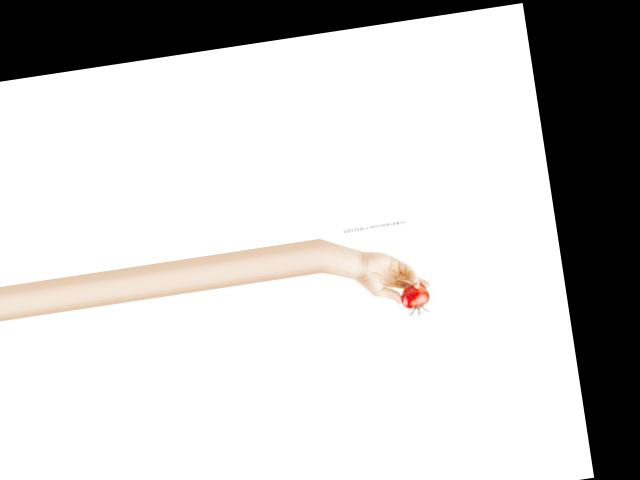tomato: (398, 281, 430, 309)
